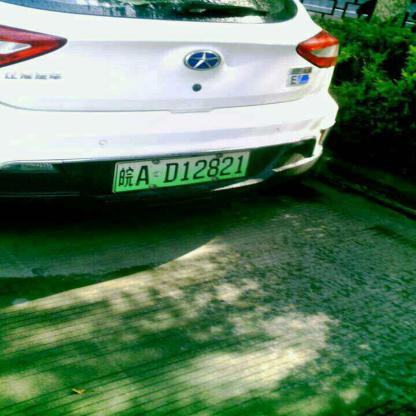lp: (114, 150, 251, 192)
